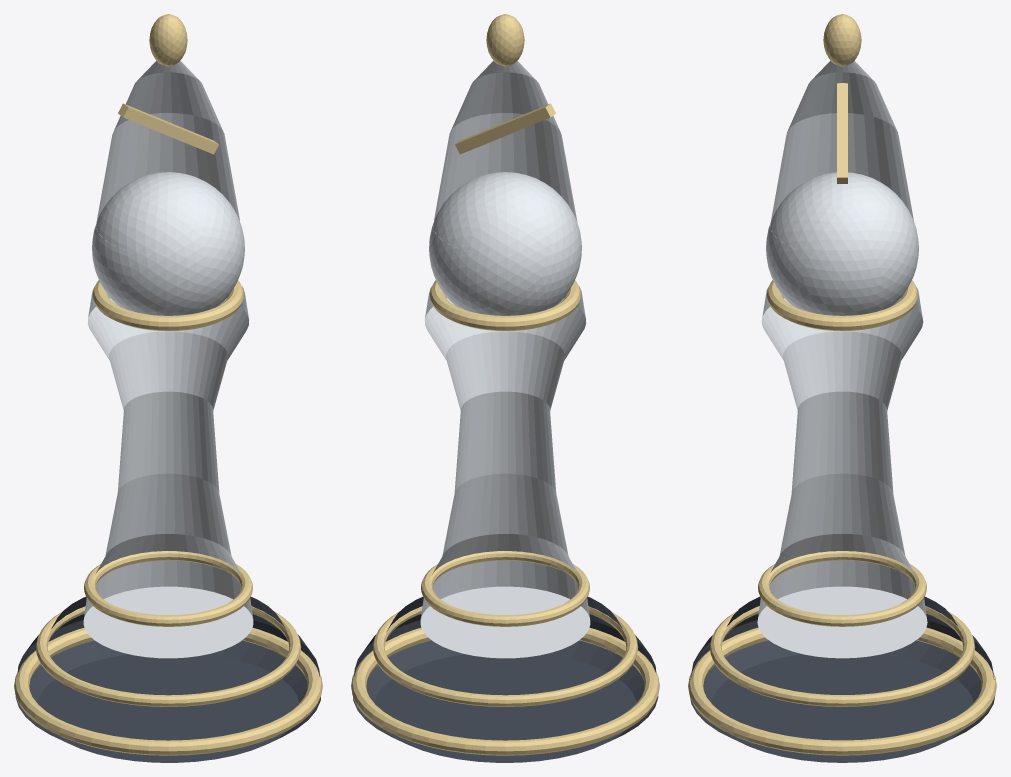
The model's file is bishop.glb.
The picture shows the model from 3 angles, left to right: view 1: azimuth 30°, elevation 25°; view 2: azimuth 150°, elevation 25°; view 3: azimuth 270°, elevation 25°; orthographic projection.
Visible parts, largest first — view 1: bishop_Polished Platinum, bishop_Champagne Gold, bishop_Obsidian Enamel; view 2: bishop_Polished Platinum, bishop_Champagne Gold, bishop_Obsidian Enamel; view 3: bishop_Polished Platinum, bishop_Champagne Gold, bishop_Obsidian Enamel.
Boxes of the visible parts, x1=… form: bishop_Polished Platinum: x1=83, y1=60, x2=253, y2=658; bishop_Champagne Gold: x1=14, y1=14, x2=322, y2=755; bishop_Obsidian Enamel: x1=15, y1=596, x2=320, y2=762; bishop_Polished Platinum: x1=420, y1=60, x2=590, y2=658; bishop_Champagne Gold: x1=351, y1=14, x2=659, y2=755; bishop_Obsidian Enamel: x1=353, y1=596, x2=658, y2=762; bishop_Polished Platinum: x1=757, y1=61, x2=927, y2=658; bishop_Champagne Gold: x1=688, y1=14, x2=996, y2=755; bishop_Obsidian Enamel: x1=690, y1=596, x2=994, y2=762.
Size of the model in its own units: 0.726 by 1.79 by 0.726.
